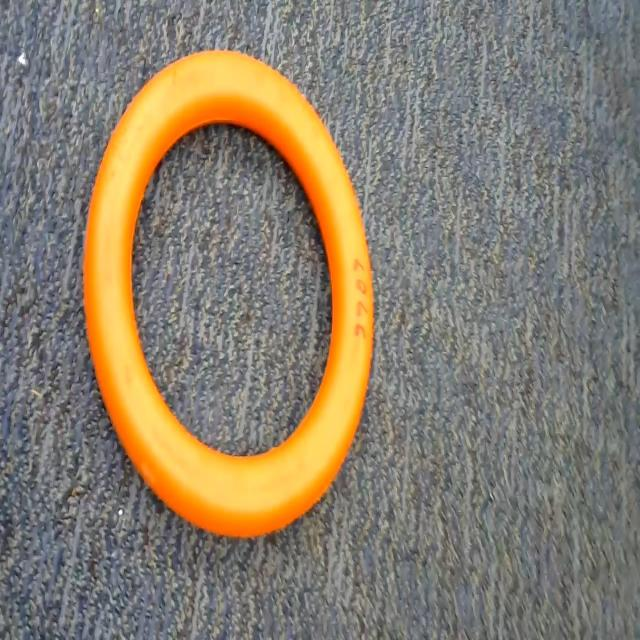note: (80, 36, 388, 568)
